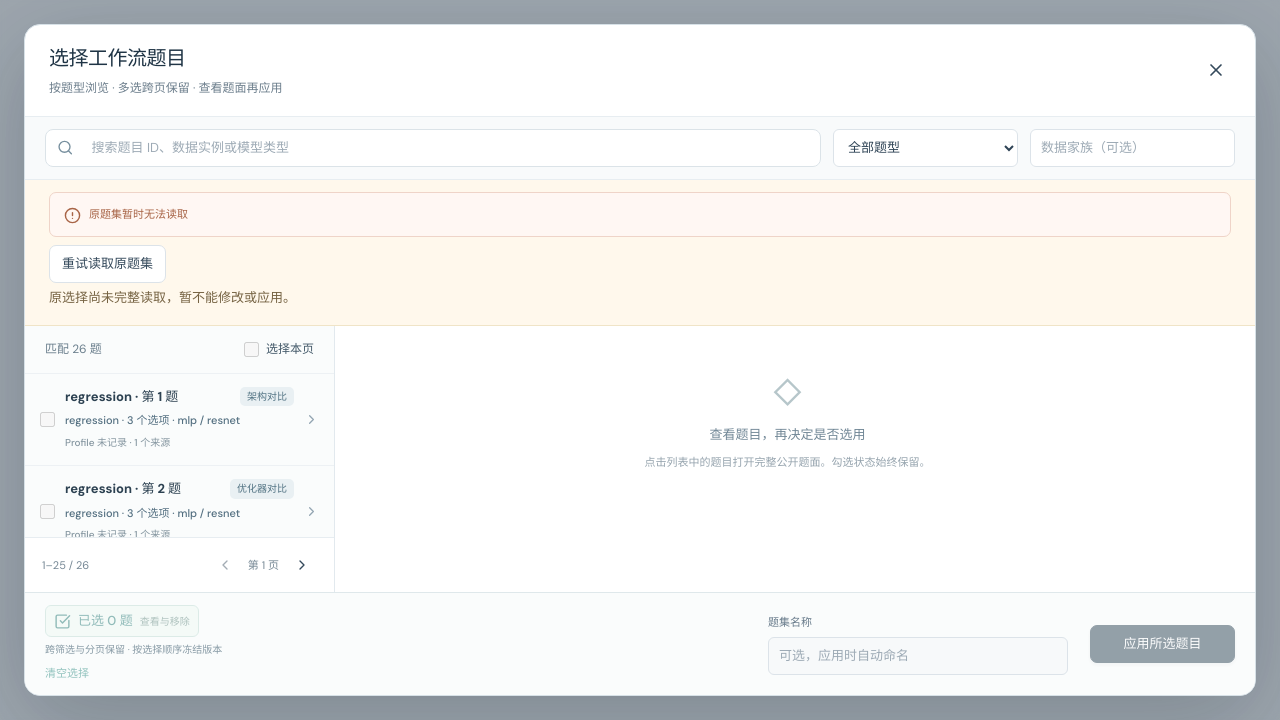
it: blocks applying after initial set failure and preserves its selection after retry
Expected: the text "原题集暂时无法读取" is shown, [89, 205, 188, 223]
Expected: the button "应用所选题目" is disabled, [1090, 625, 1235, 663]
Click the button "重试读取原题集". click: (108, 264)
box: [49, 245, 166, 283]
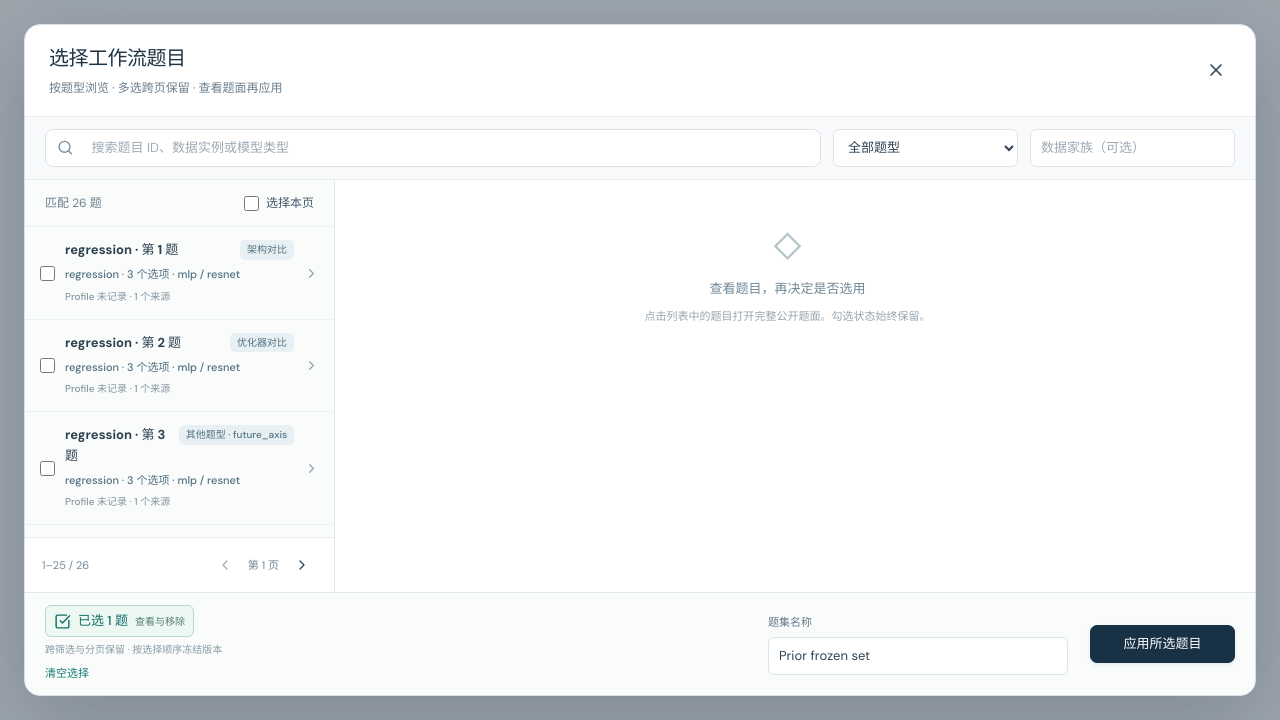
Result: the button "应用所选题目" is enabled at [1090, 625, 1235, 663]
Result: the button "已选 1 题 查看与移除" is shown at [45, 605, 194, 637]
